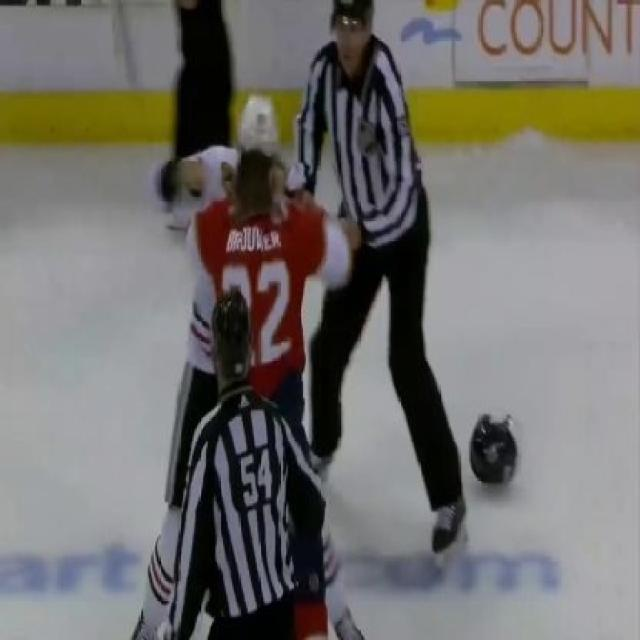fight: (143, 131, 377, 640)
non-fight: (269, 0, 473, 569), (139, 288, 354, 640)
